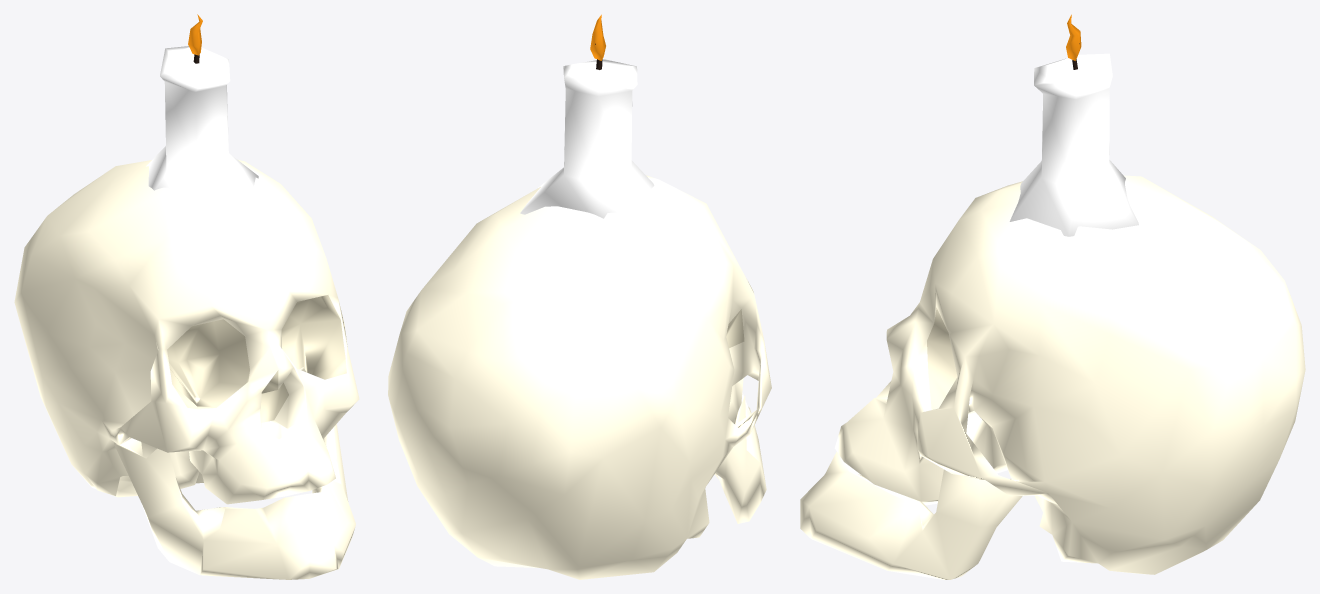
The model's file is CandleSkullShapeB.024.glb.
The picture shows the model from 3 angles, left to right: view 1: azimuth 30°, elevation 25°; view 2: azimuth 150°, elevation 25°; view 3: azimuth 270°, elevation 25°; orthographic projection. The views are drawn at different scales.
Visible parts, largest first — view 1: CandleSkullShapeB.024; view 2: CandleSkullShapeB.024; view 3: CandleSkullShapeB.024.
Part boxes in pixels (bbox=[...]): CandleSkullShapeB.024: bbox=[14, 14, 359, 579]; CandleSkullShapeB.024: bbox=[388, 14, 771, 579]; CandleSkullShapeB.024: bbox=[800, 14, 1305, 579].
Size of the model in its own units: 0.2005 by 0.3649 by 0.3132.
2 materials, 2 textured.
